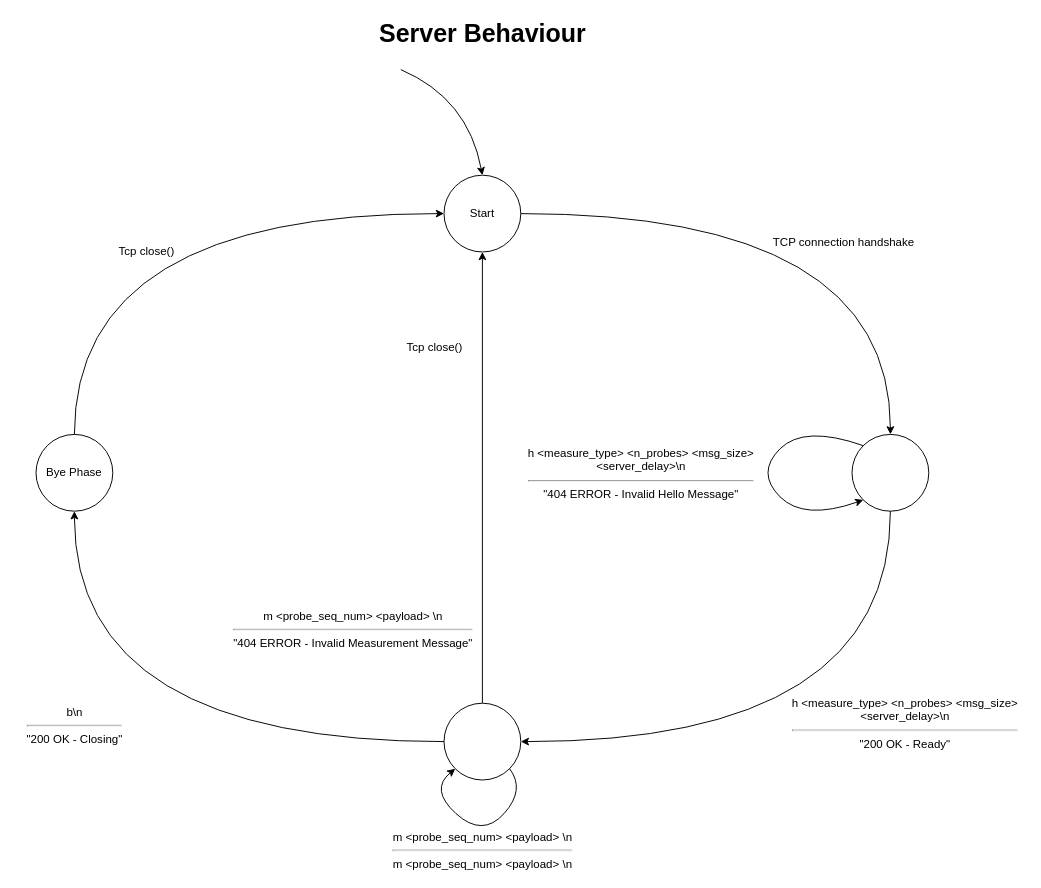
Image size: 1041x888. Some labels were removed from this diagram. Each missing label, with the centre of its shape:
"Hello Phase" goes at point 890,472.
"Measurement Phase" goes at point 482,741.
